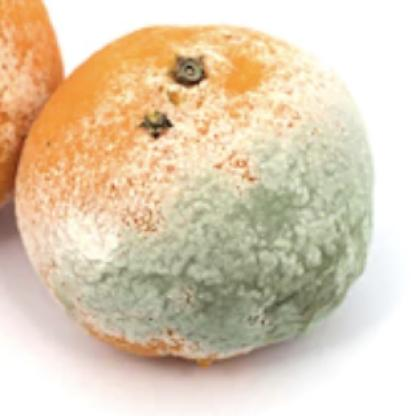rotten: (21, 25, 375, 367)
